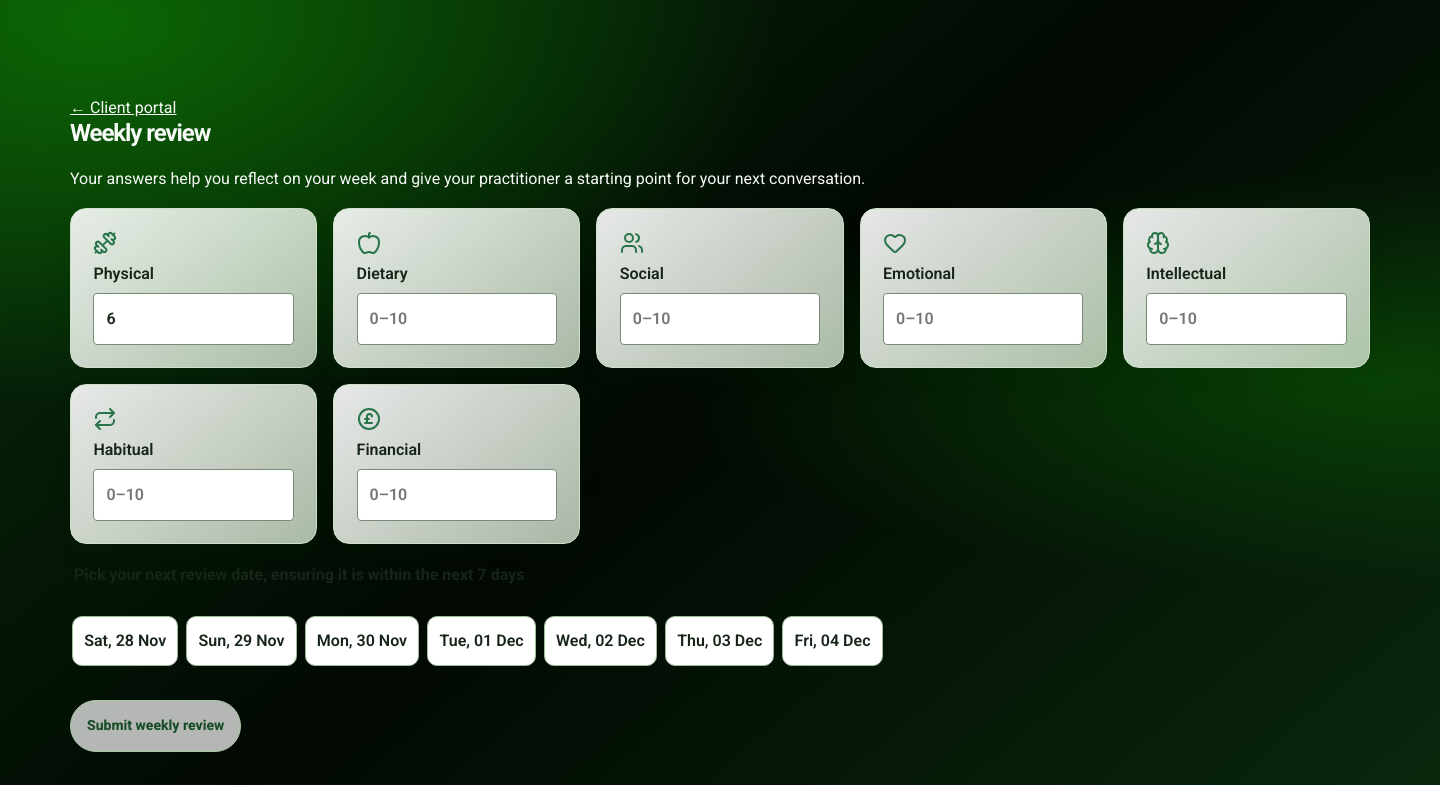
client submits seven ratings and a next review date
The width and height of the screenshot is (1440, 785).
Earlier steps of the test are not shown.
Type "6" into the number field labelled "dietary" at coordinates (457, 319), box [357,293,557,345]
Type "6" into the number field labelled "social" at coordinates (720, 319), box [620,293,820,345]
Type "6" into the number field labelled "emotional" at coordinates (983, 319), box [883,293,1083,345]
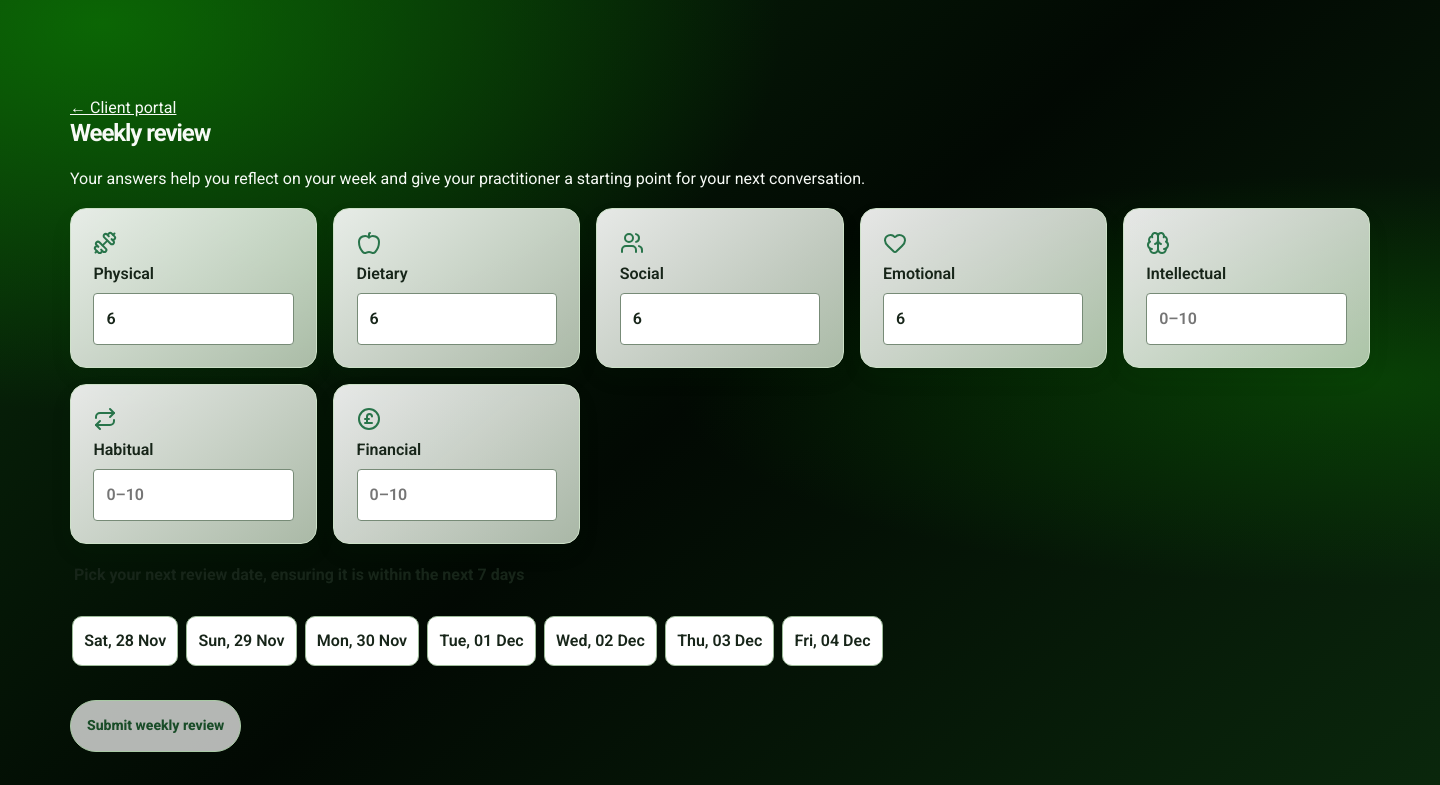
Type "6" into the number field labelled "intellectual" at coordinates (1246, 319), box [1146,293,1347,345]
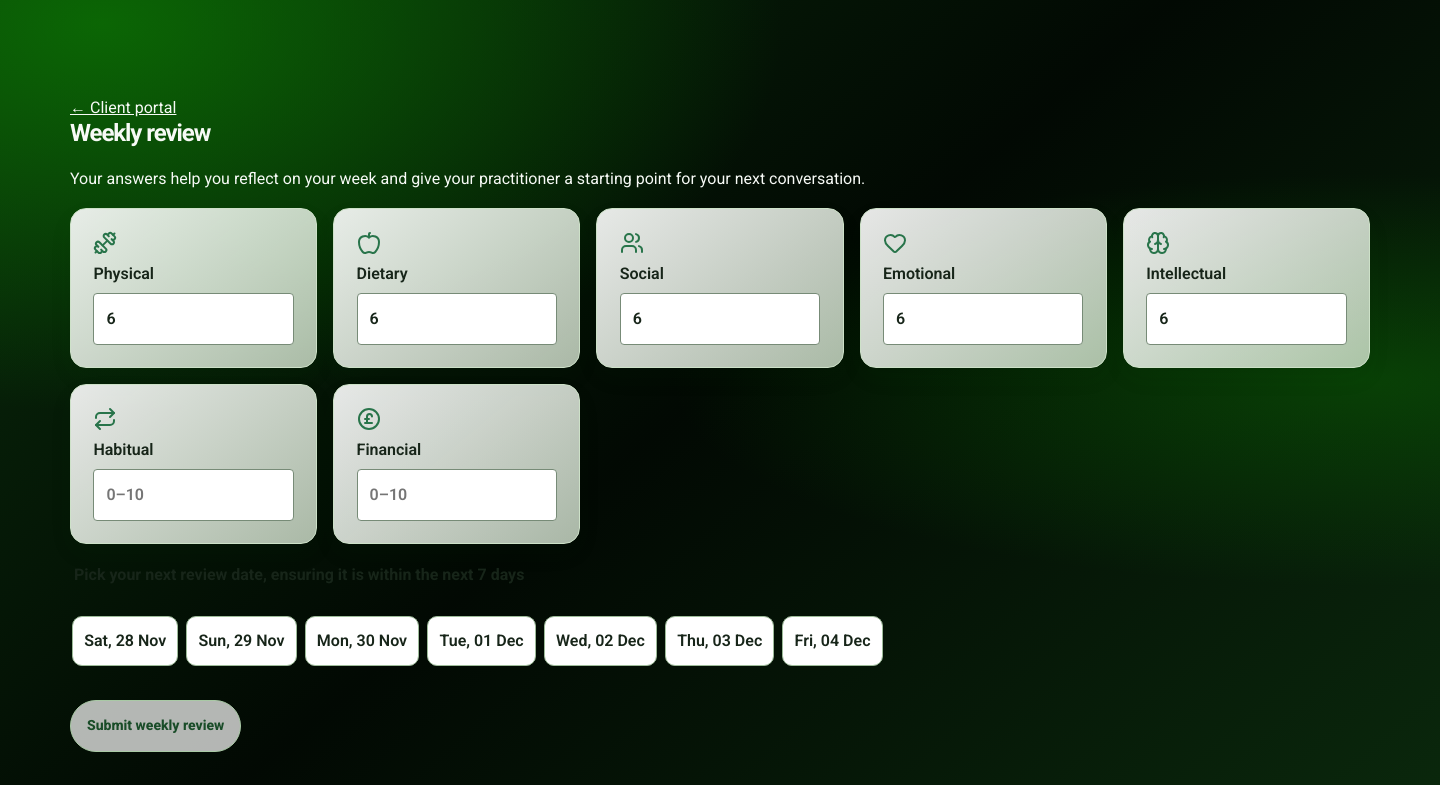
Type "6" into the number field labelled "habitual" at coordinates (194, 495), box [93,469,294,521]
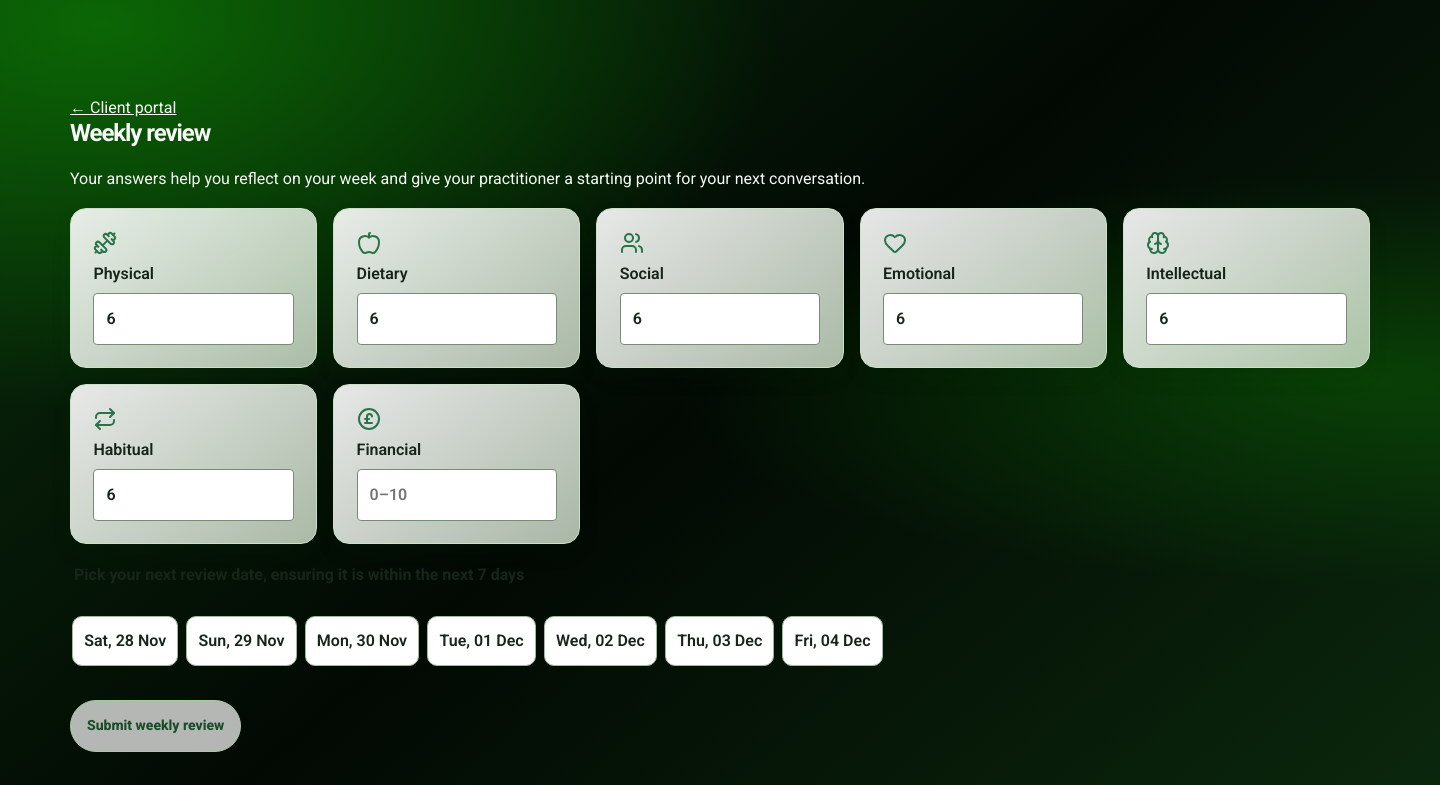
Type "6" into the number field labelled "financial" at coordinates (457, 495), box [357,469,557,521]
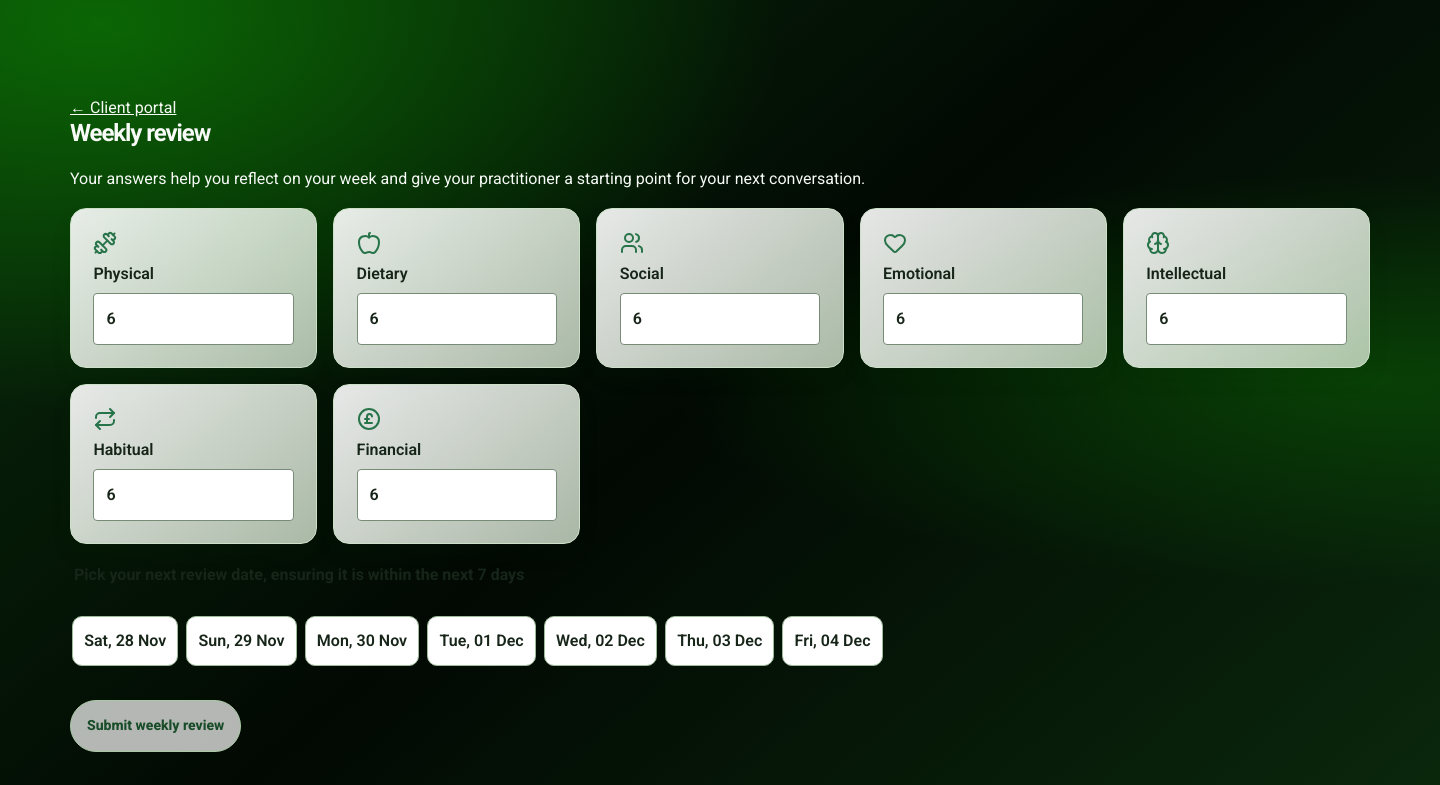
Click the radio button labelled "Sat, 28 Nov" at coordinates (125, 640), box [72,616,178,666]
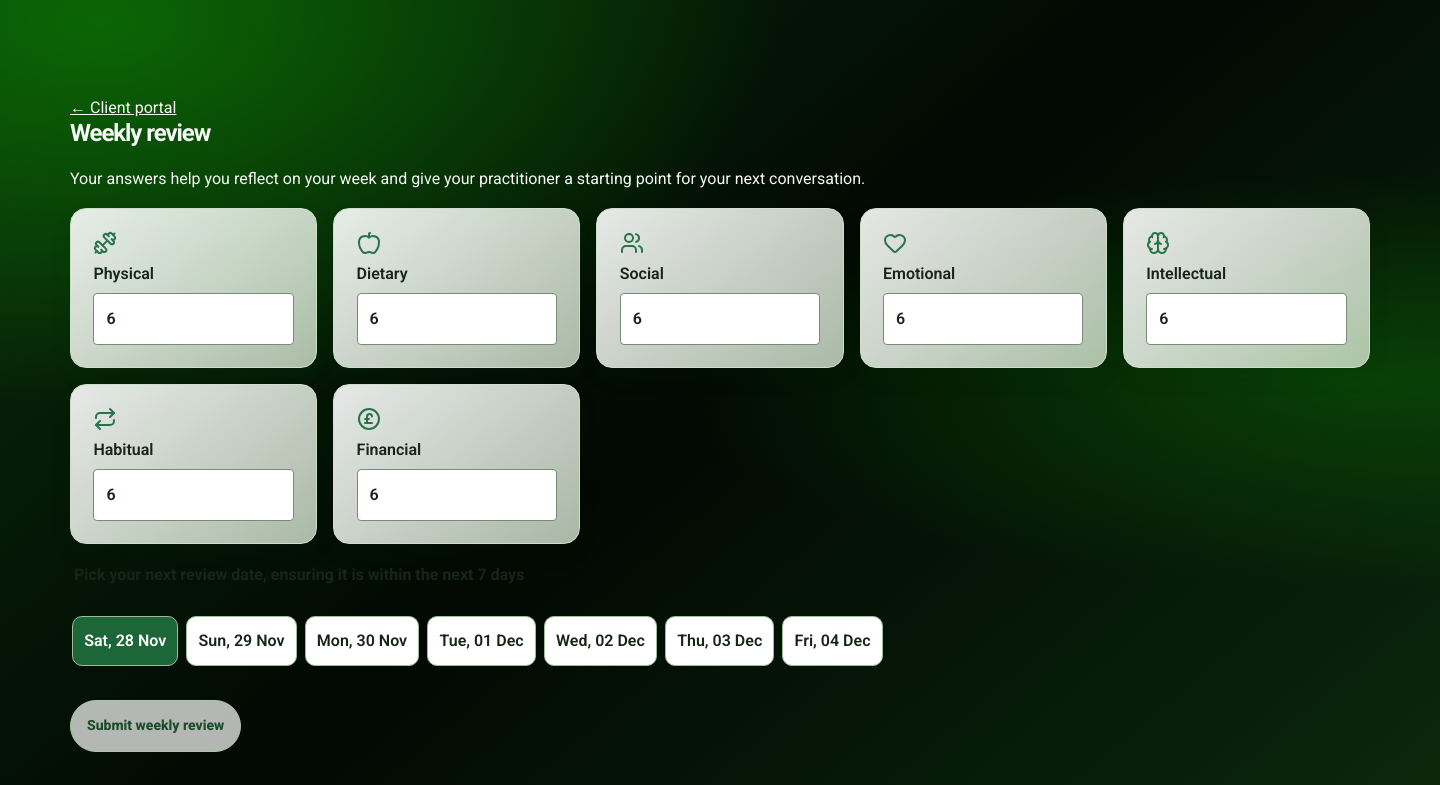
Click the button "Submit weekly review" at coordinates (156, 726), box [70,700,241,752]
(page scrolled)
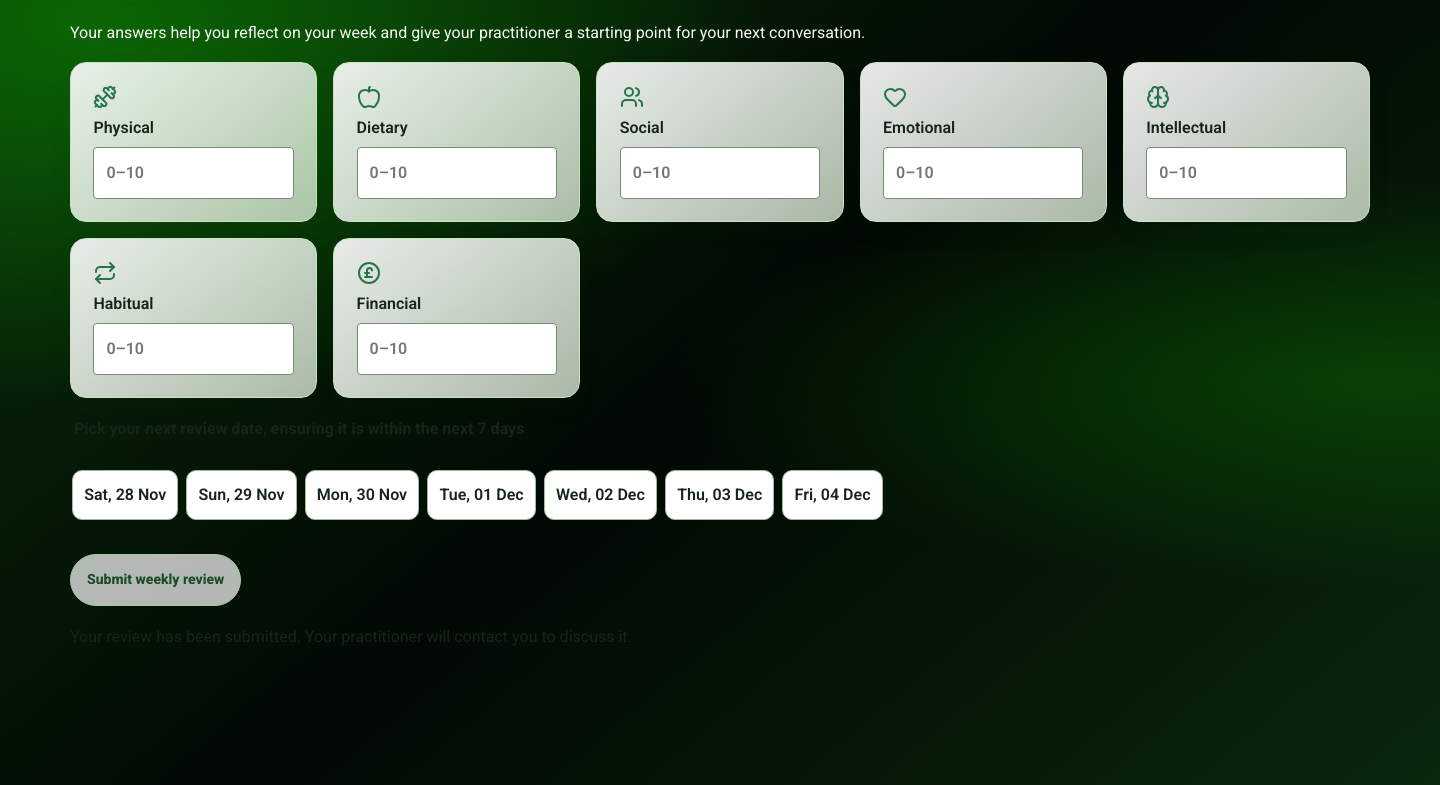
Check: the text "review has been submitted" is shown, box [70,626,632,646]
